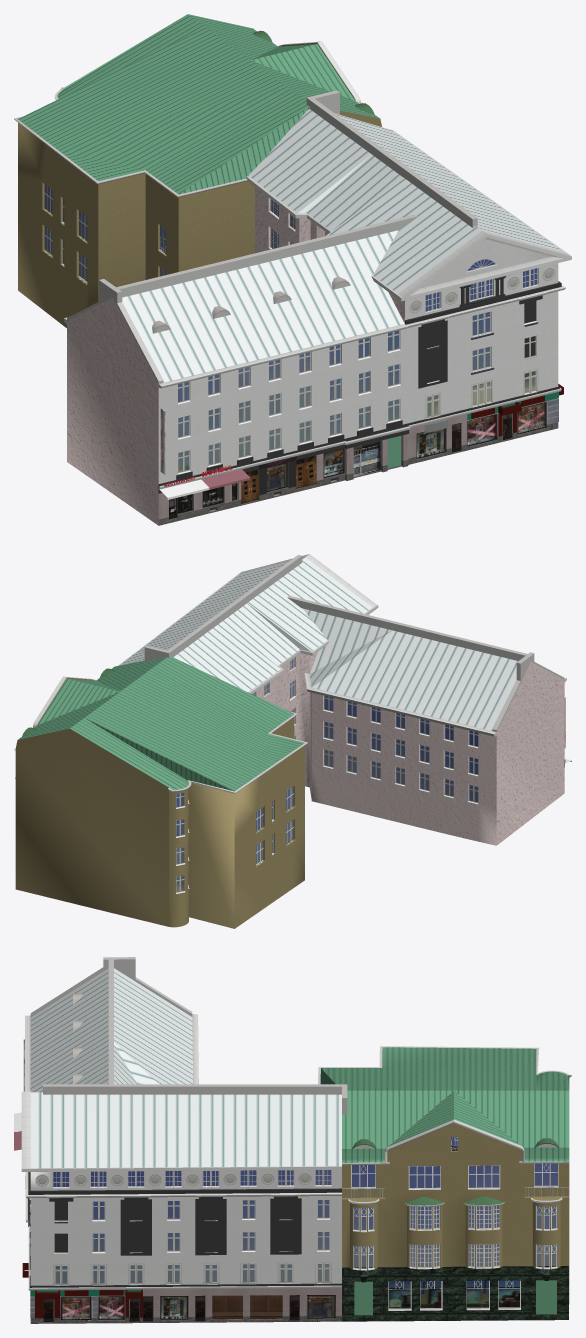
Rendered from kirkkokatu_10.FBX.
3 views of the same model, one above another, from view 1: azimuth 30°, elevation 25°; view 2: azimuth 150°, elevation 25°; view 3: azimuth 270°, elevation 25° (orthographic). The views are drawn at different scales.
Visible parts, largest first — view 1: kirkkokatu_10; view 2: kirkkokatu_10; view 3: kirkkokatu_10.
Part boxes in pixels (left/top/right/bottom): kirkkokatu_10: left=14, top=14, right=571, bottom=525; kirkkokatu_10: left=14, top=554, right=571, bottom=928; kirkkokatu_10: left=14, top=957, right=571, bottom=1323.
Bounding box in the file's own units: 4049 × 5194 × 2099.
33 materials, 26 textured.
